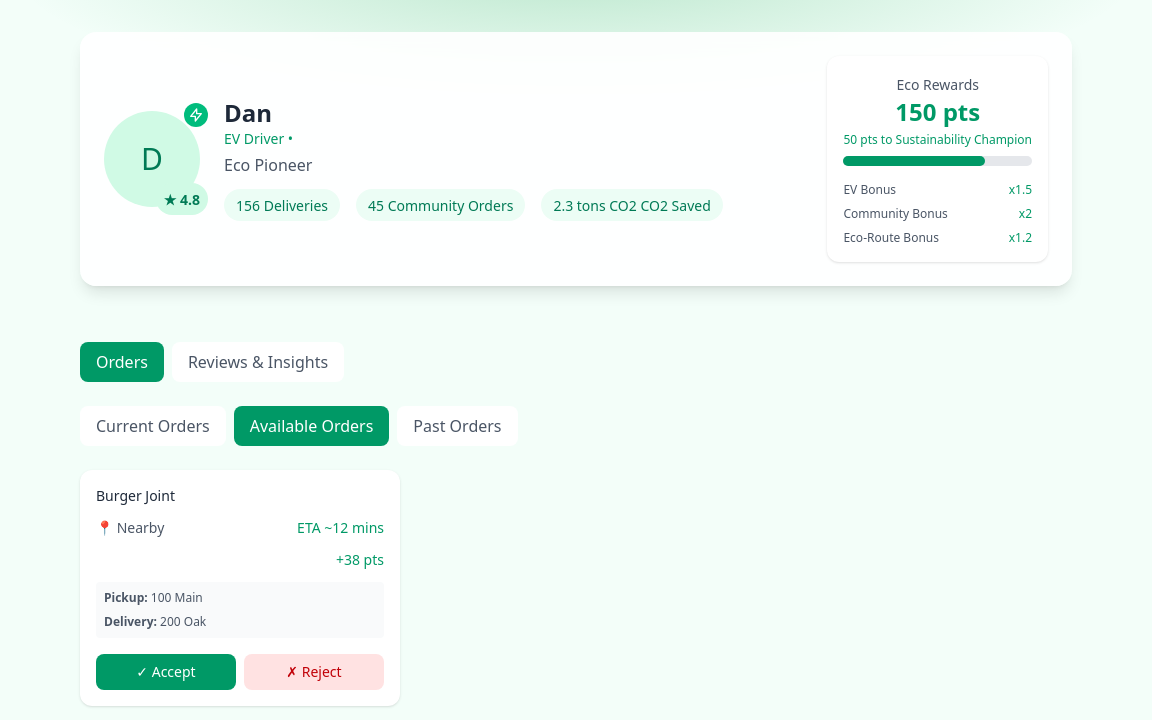
Test: Drivers › rejects an order and removes it from available list
Expected: the text "Burger Joint" is shown, [96,486,175,506]
Click the button "✗ Reject" at (314, 672), box [244,654,384,690]
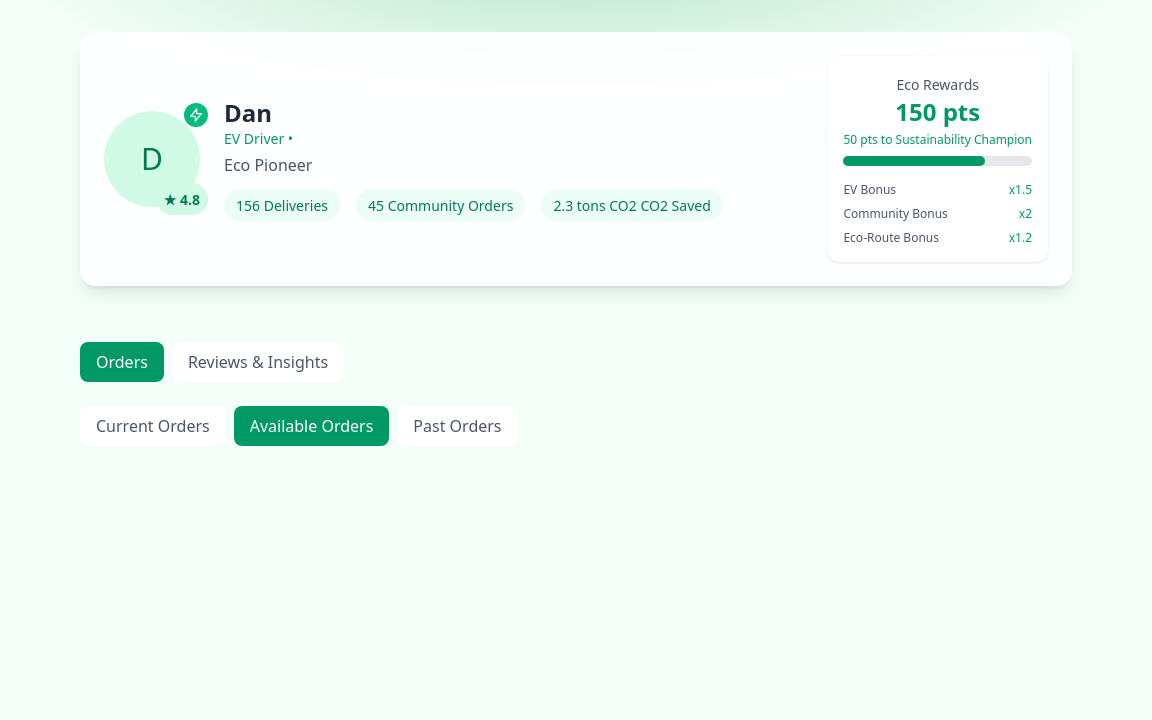
Now the text "Burger Joint" is gone
